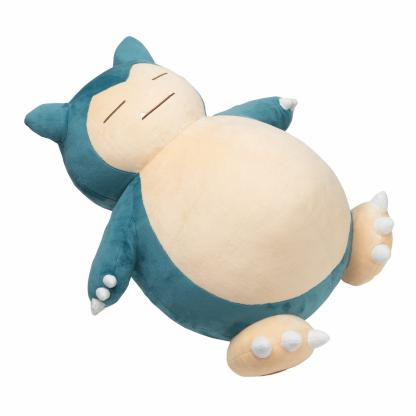Snorlax: (25, 46, 385, 382)
